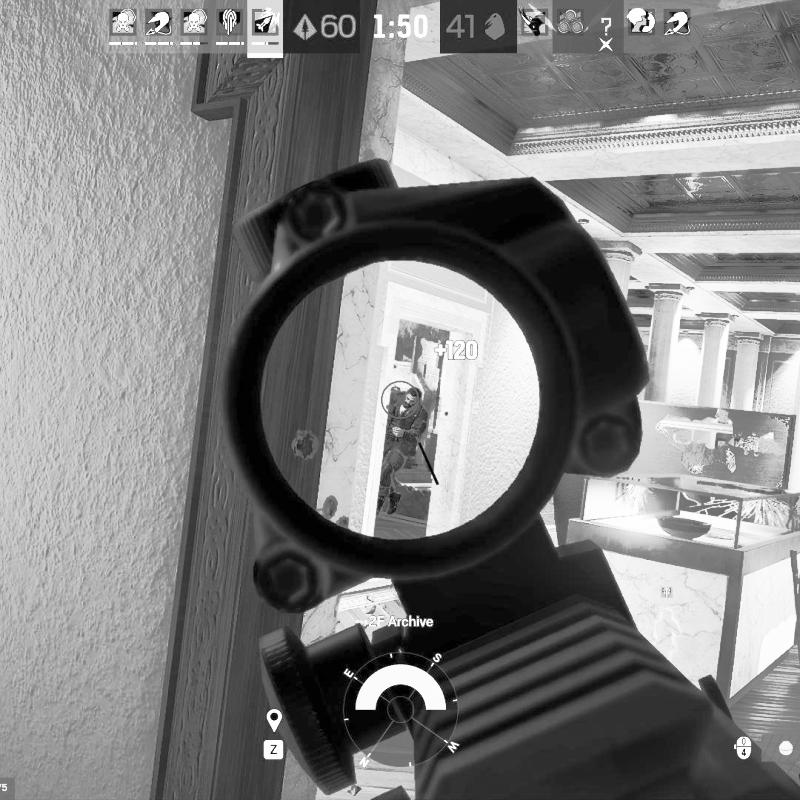Character: (376, 385, 433, 520)
Head: (400, 387, 423, 410)
